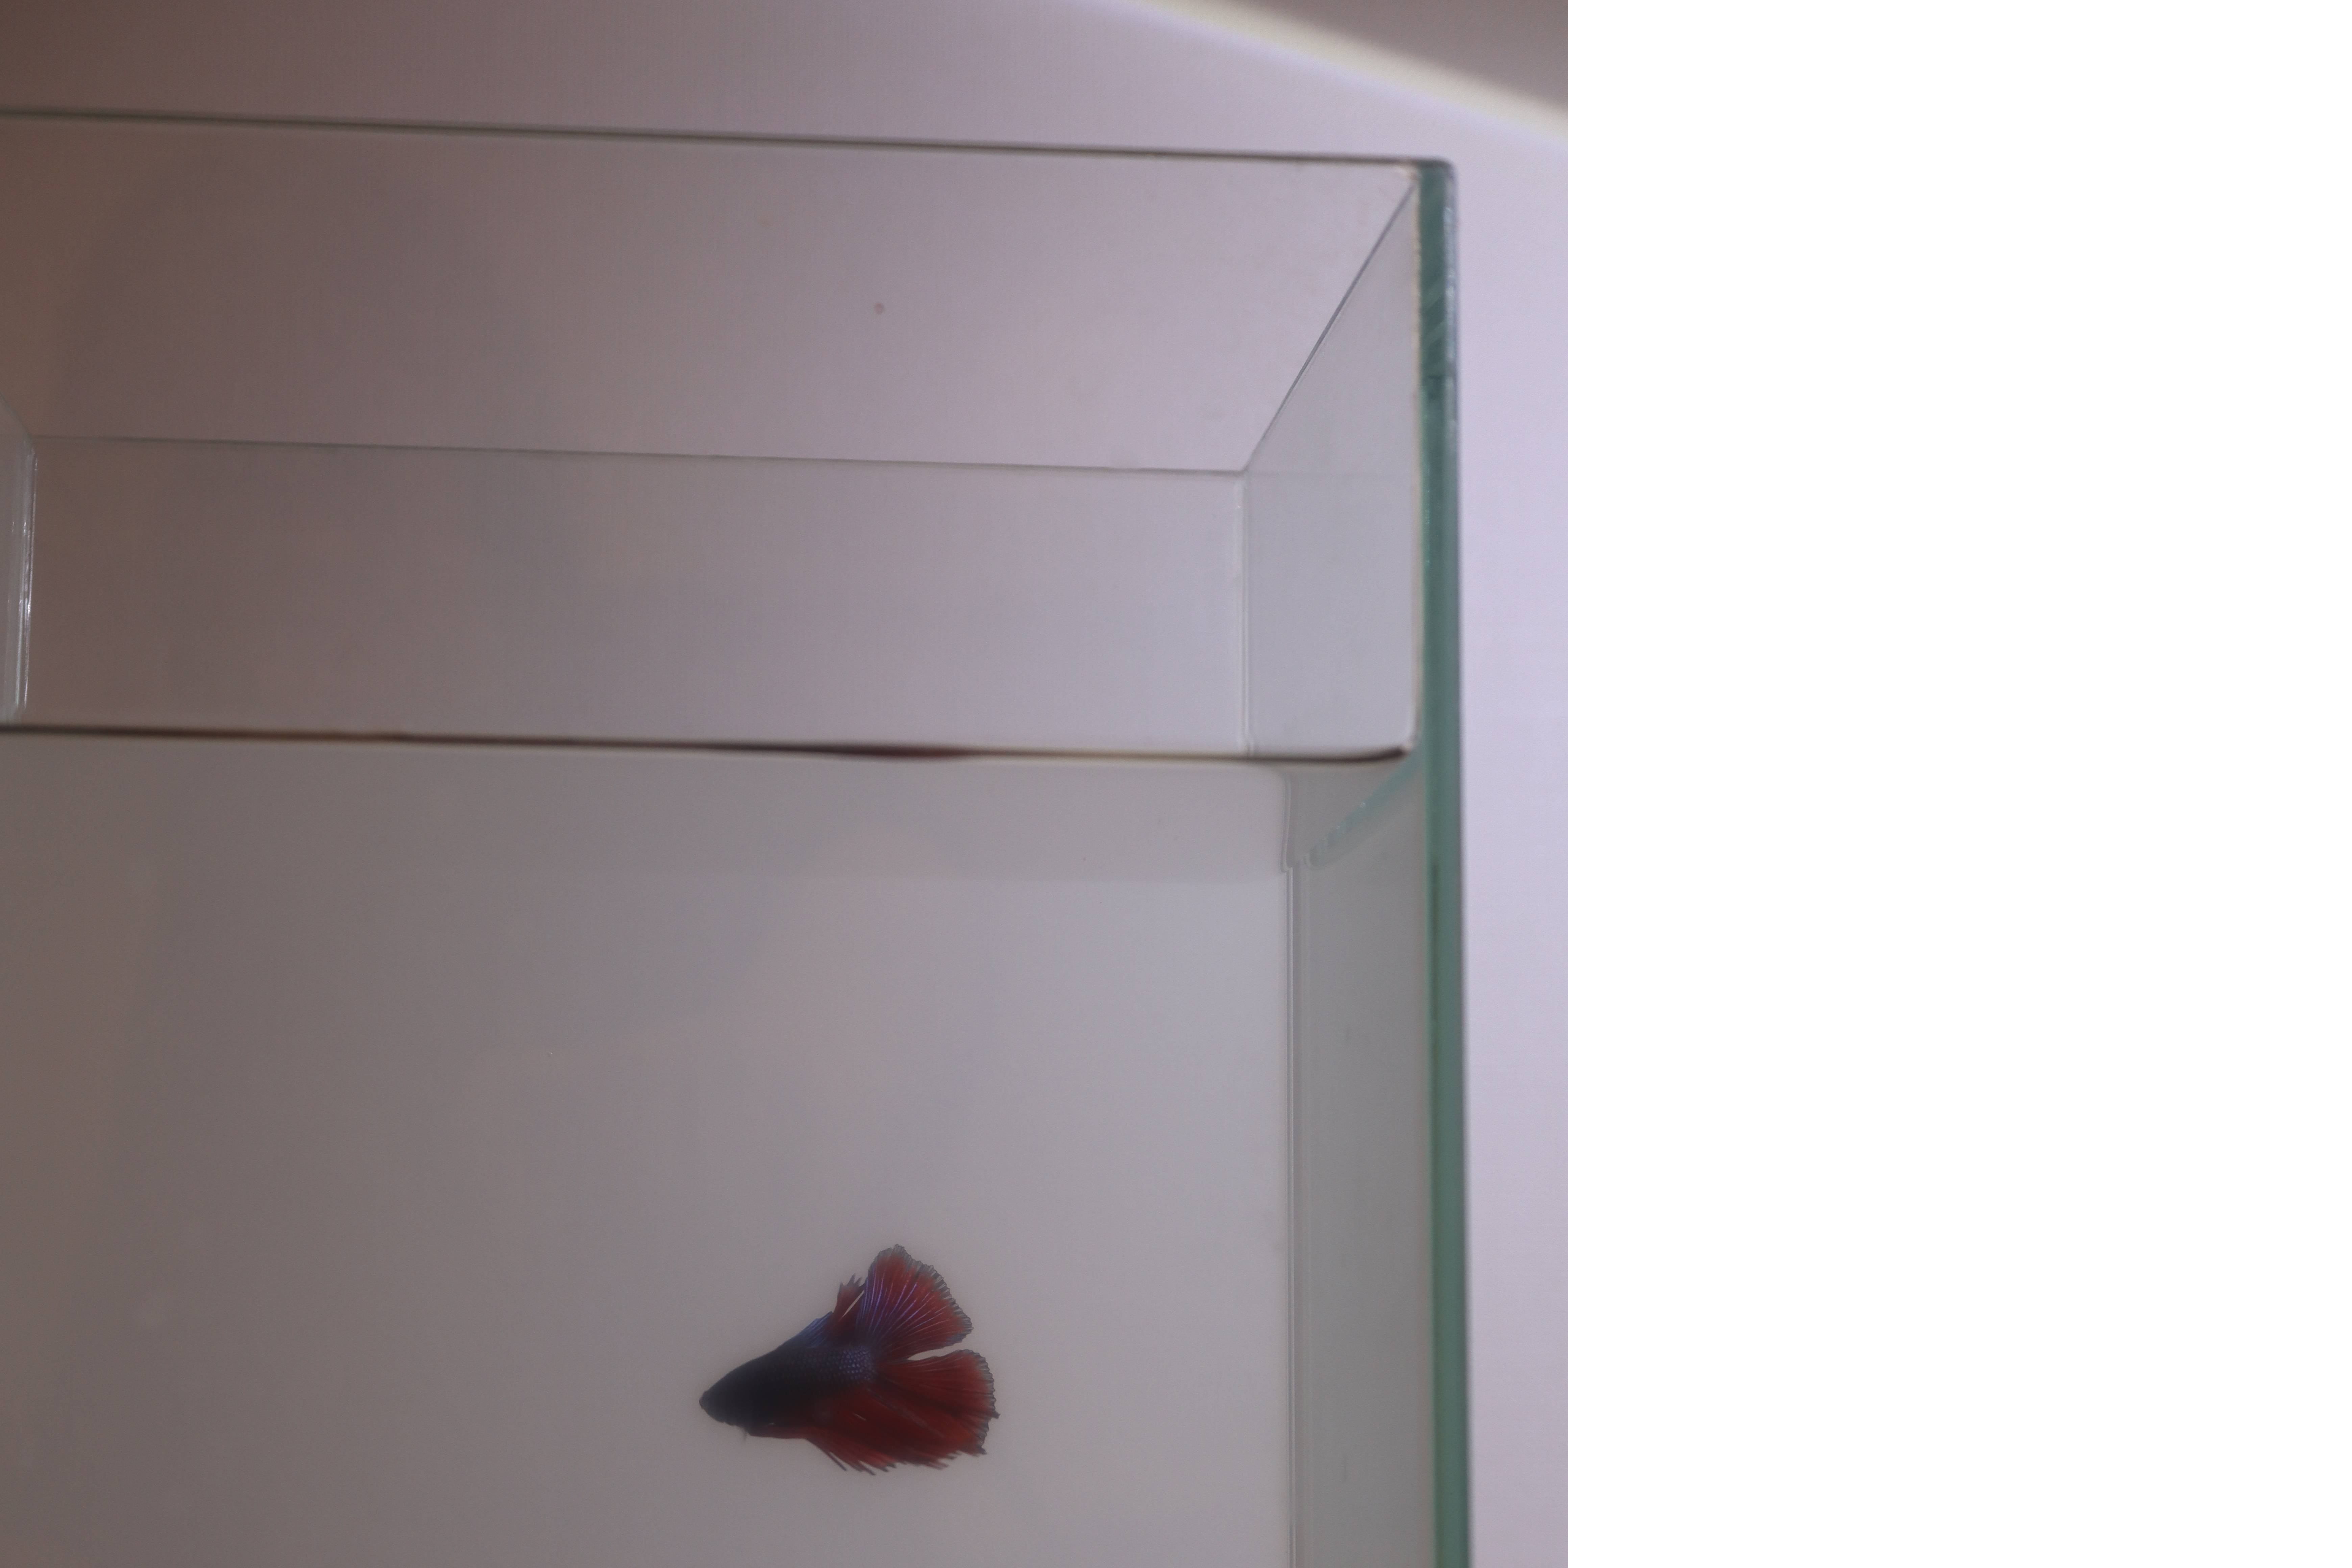fish: (684, 1239, 1017, 1477)
